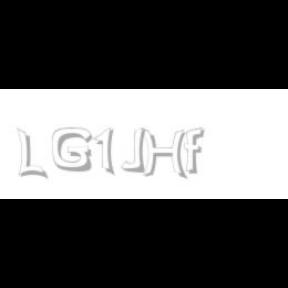1: (93, 128, 115, 176)
G: (52, 128, 92, 172)
H: (141, 128, 187, 180)
J: (120, 128, 146, 172)
L: (17, 128, 45, 180)
f: (184, 128, 208, 174)
